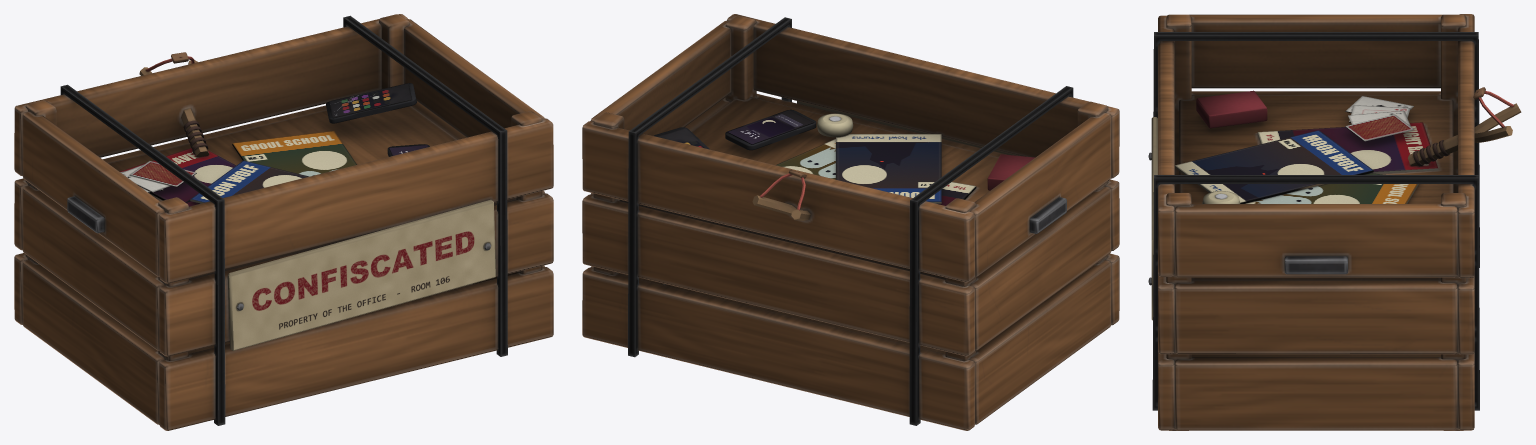
The model's file is ConfiscatedBox.fbx.
3 views of the same model, side by side, from view 1: azimuth 30°, elevation 25°; view 2: azimuth 150°, elevation 25°; view 3: azimuth 270°, elevation 25° (orthographic). The views are drawn at different scales.
Parts seen in each view (by area): view 1: ConfiscatedBox; view 2: ConfiscatedBox; view 3: ConfiscatedBox.
Part boxes in pixels (x1,y1,x2,y2): ConfiscatedBox: [14, 14, 553, 430]; ConfiscatedBox: [582, 14, 1119, 430]; ConfiscatedBox: [1148, 14, 1521, 430].
Bounding box in the file's own units: 229 × 123 × 177.
